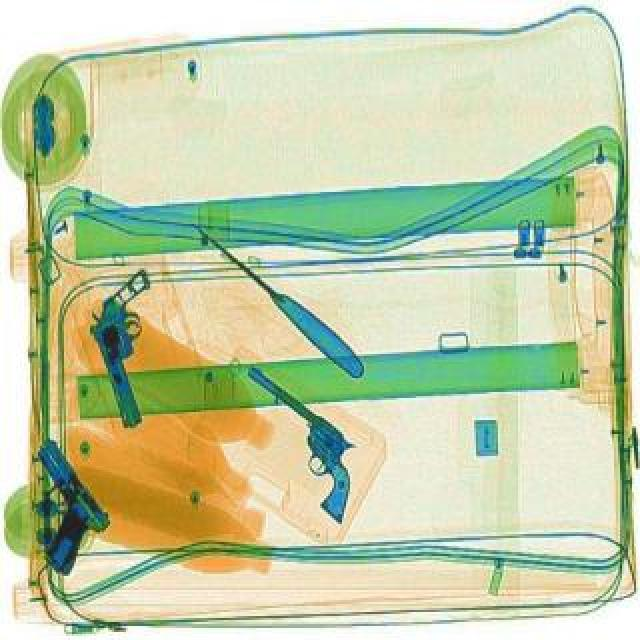gun: (202, 366, 390, 524), (78, 268, 190, 428), (0, 444, 120, 564)
knife: (184, 212, 372, 380)
